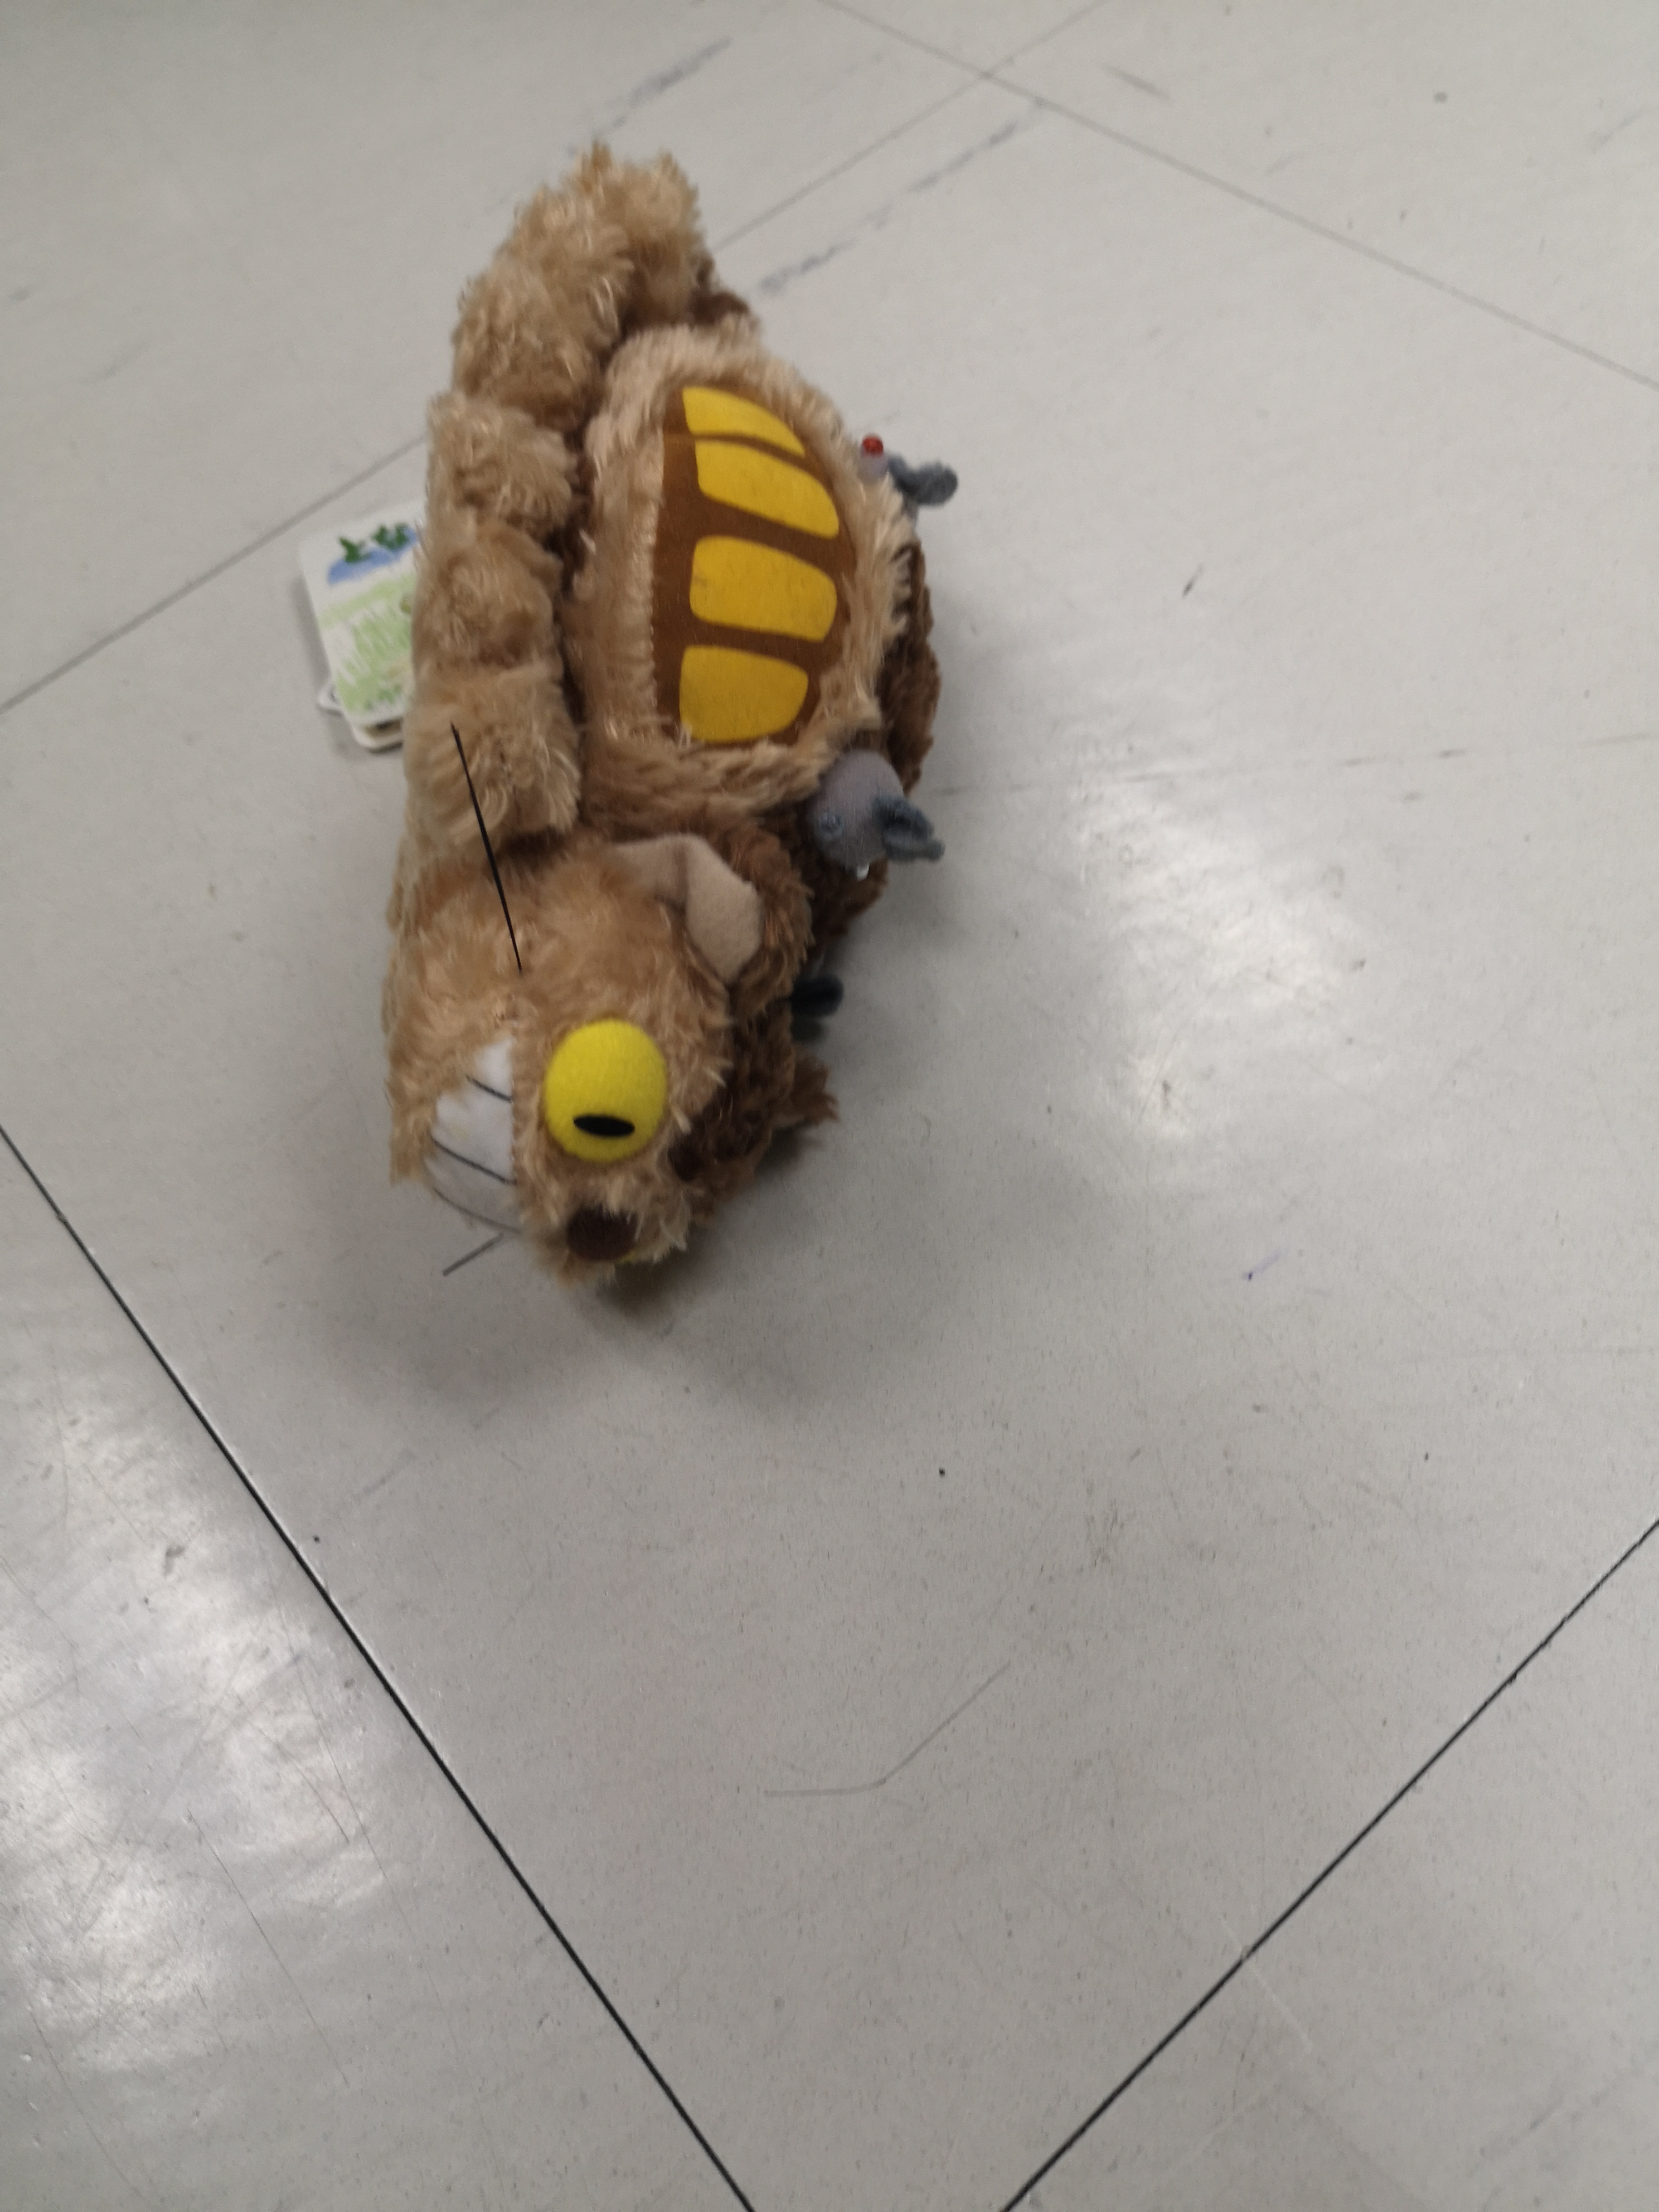nekobus: (371, 127, 978, 1324)
